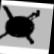not correct: (0, 2, 41, 48)
